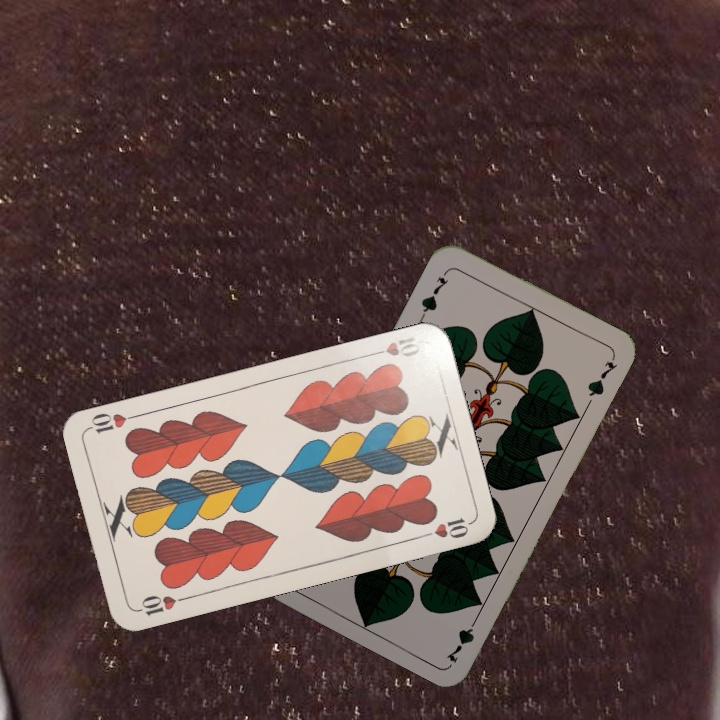G7: (442, 610, 482, 665), (417, 266, 452, 321)
H10: (133, 591, 191, 619), (367, 333, 423, 359)
